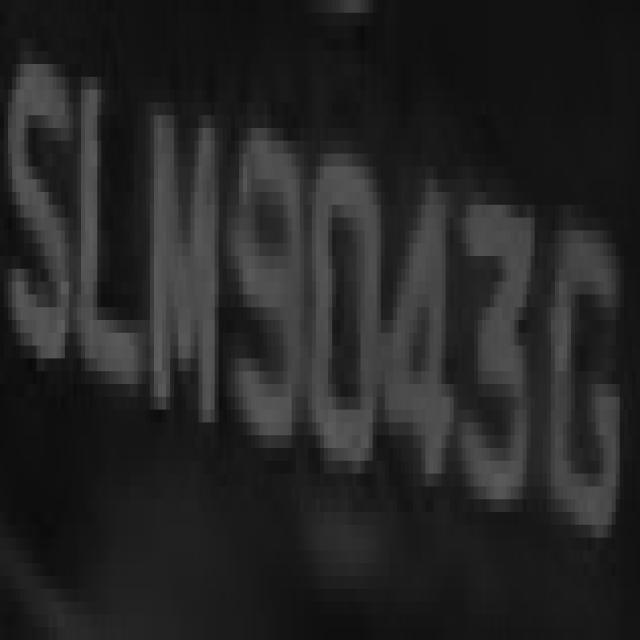0: (308, 102, 393, 486)
3: (450, 128, 530, 538)
4: (384, 141, 454, 525)
9: (223, 64, 312, 499)
G: (538, 205, 620, 563)
L: (85, 38, 150, 436)
M: (146, 51, 223, 448)
S: (4, 13, 77, 422)
